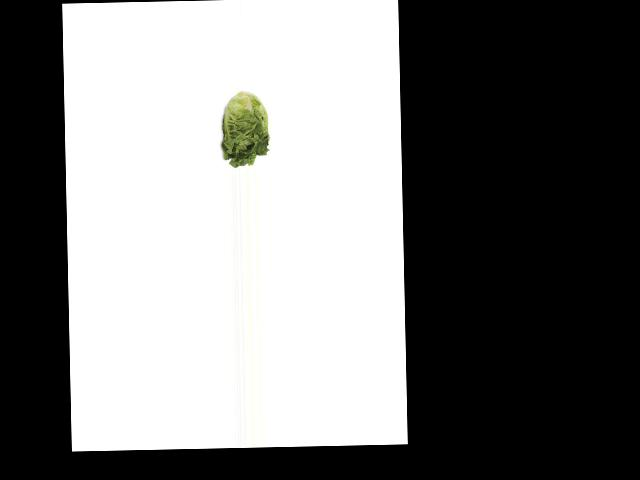lettuce: (217, 90, 274, 166)
